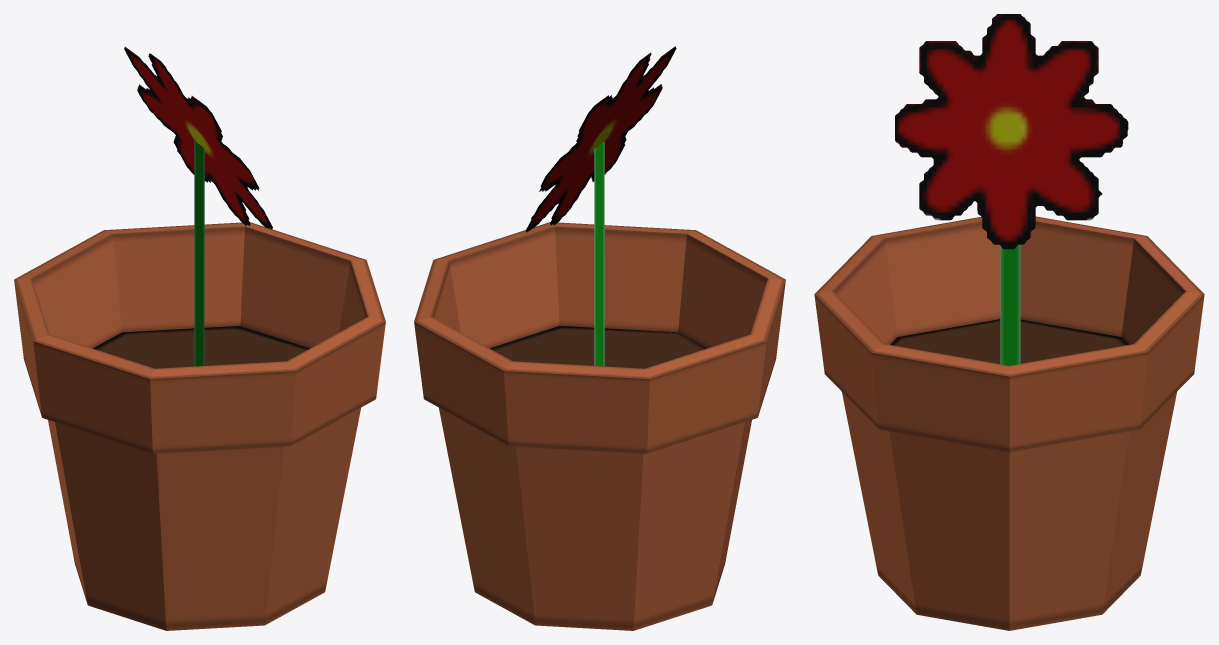
File: Pot_Flower.glb
3 views of the same model, side by side, from view 1: azimuth 30°, elevation 25°; view 2: azimuth 150°, elevation 25°; view 3: azimuth 270°, elevation 25° (orthographic).
Visible parts, largest first — view 1: Pot_flower; view 2: Pot_flower; view 3: Pot_flower.
Boxes of the visible parts, left/top/right/bottom form: Pot_flower: left=14, top=47, right=385, bottom=630; Pot_flower: left=414, top=46, right=785, bottom=630; Pot_flower: left=814, top=14, right=1204, bottom=630.
Bounding box in the file's own units: 1.6 × 2.43 × 1.6.
Materials: 1 (1 with a texture image).
